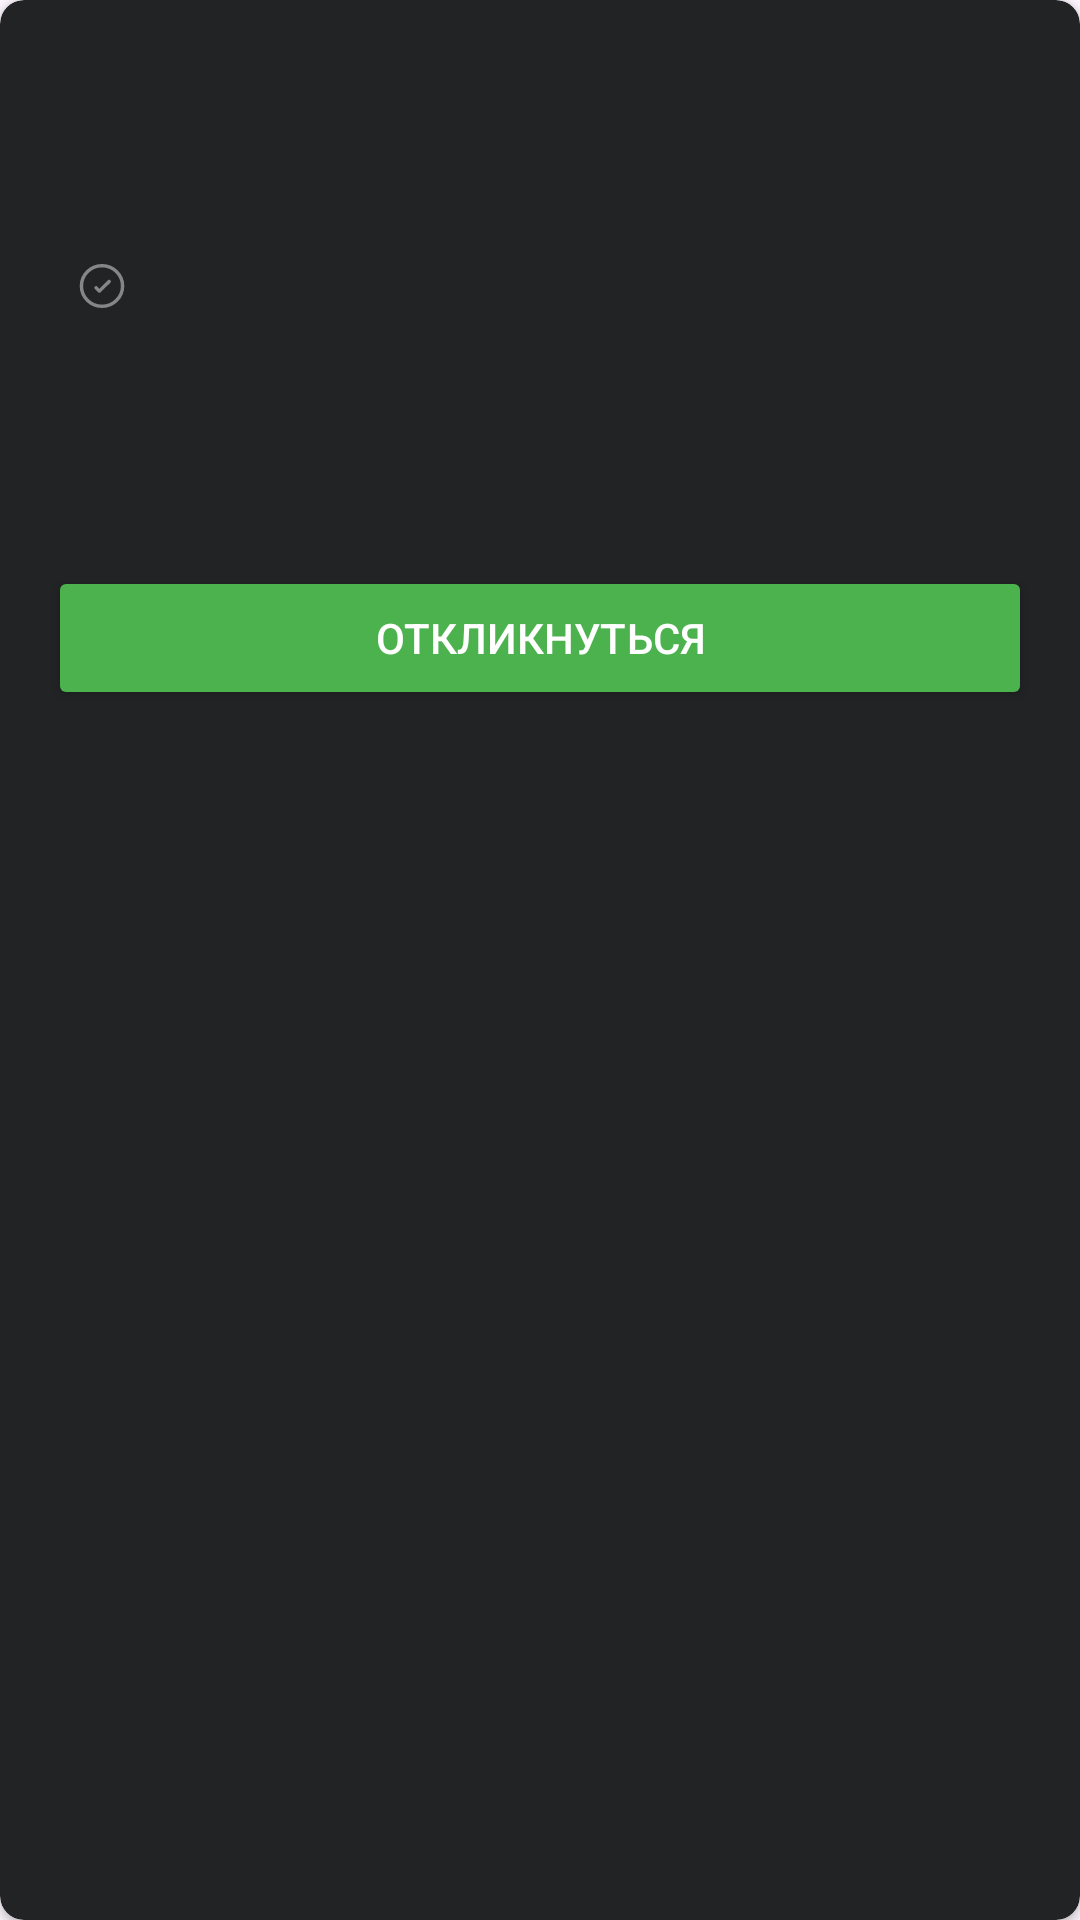

Named icons in this screenshot (1080*1920) and their bounding boxes, (x1, y1, x2, y2):
verified: (79, 264, 125, 308)
